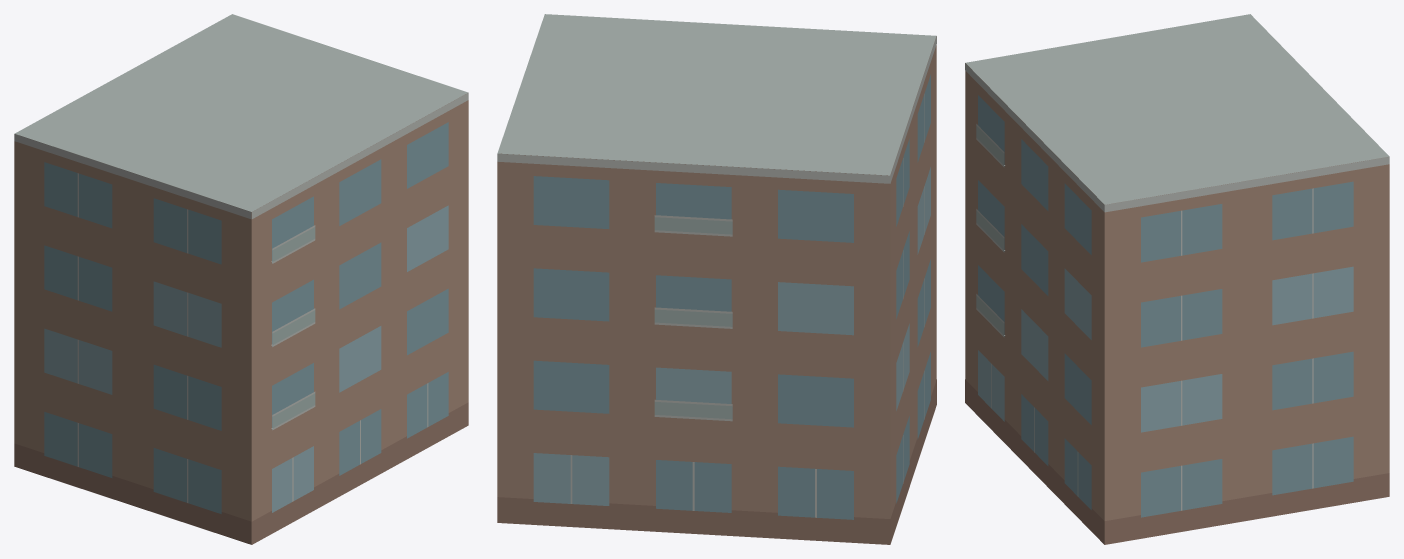
Rendered from survey-upis-32961583.glb.
3 views of the same model, side by side, from view 1: azimuth 30°, elevation 25°; view 2: azimuth 150°, elevation 25°; view 3: azimuth 270°, elevation 25° (orthographic). The views are drawn at different scales.
Parts seen in each view (by area): view 1: survey-upis-32961583.tmp; view 2: survey-upis-32961583.tmp; view 3: survey-upis-32961583.tmp.
Part boxes in pixels (<box>): survey-upis-32961583.tmp: <box>14,14,468,544</box>; survey-upis-32961583.tmp: <box>497,14,936,544</box>; survey-upis-32961583.tmp: <box>965,14,1389,544</box>.
Bounding box in the file's own units: 13.13 × 10.9 × 12.34.
